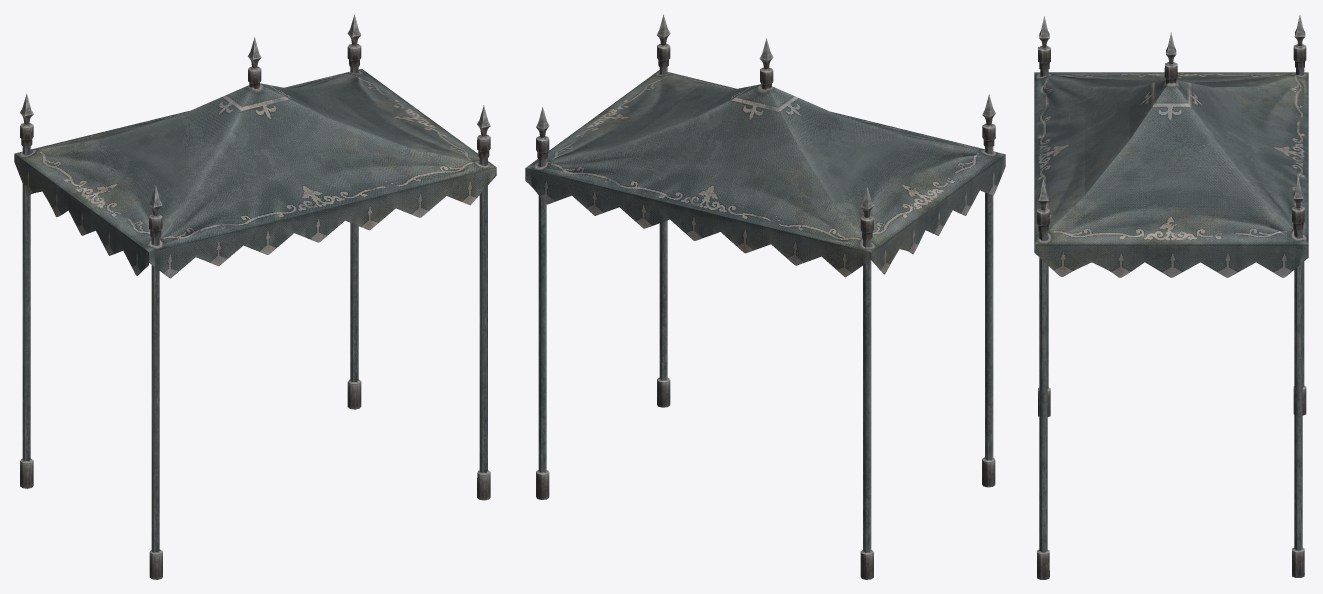
Rendered from bg_lut_lucastle_tent04a_sm_msj.FBX.
3 views of the same model, side by side, from view 1: azimuth 30°, elevation 25°; view 2: azimuth 150°, elevation 25°; view 3: azimuth 270°, elevation 25° (orthographic). The views are drawn at different scales.
Parts seen in each view (by area): view 1: bg_lut_lucastle_tent04a_sm_msj; view 2: bg_lut_lucastle_tent04a_sm_msj; view 3: bg_lut_lucastle_tent04a_sm_msj.
Part boxes in pixels (<box>): bg_lut_lucastle_tent04a_sm_msj: <box>14,14,496,579</box>; bg_lut_lucastle_tent04a_sm_msj: <box>525,14,1005,579</box>; bg_lut_lucastle_tent04a_sm_msj: <box>1034,15,1308,579</box>.
Size of the model in its own units: 320 by 401 by 215.
